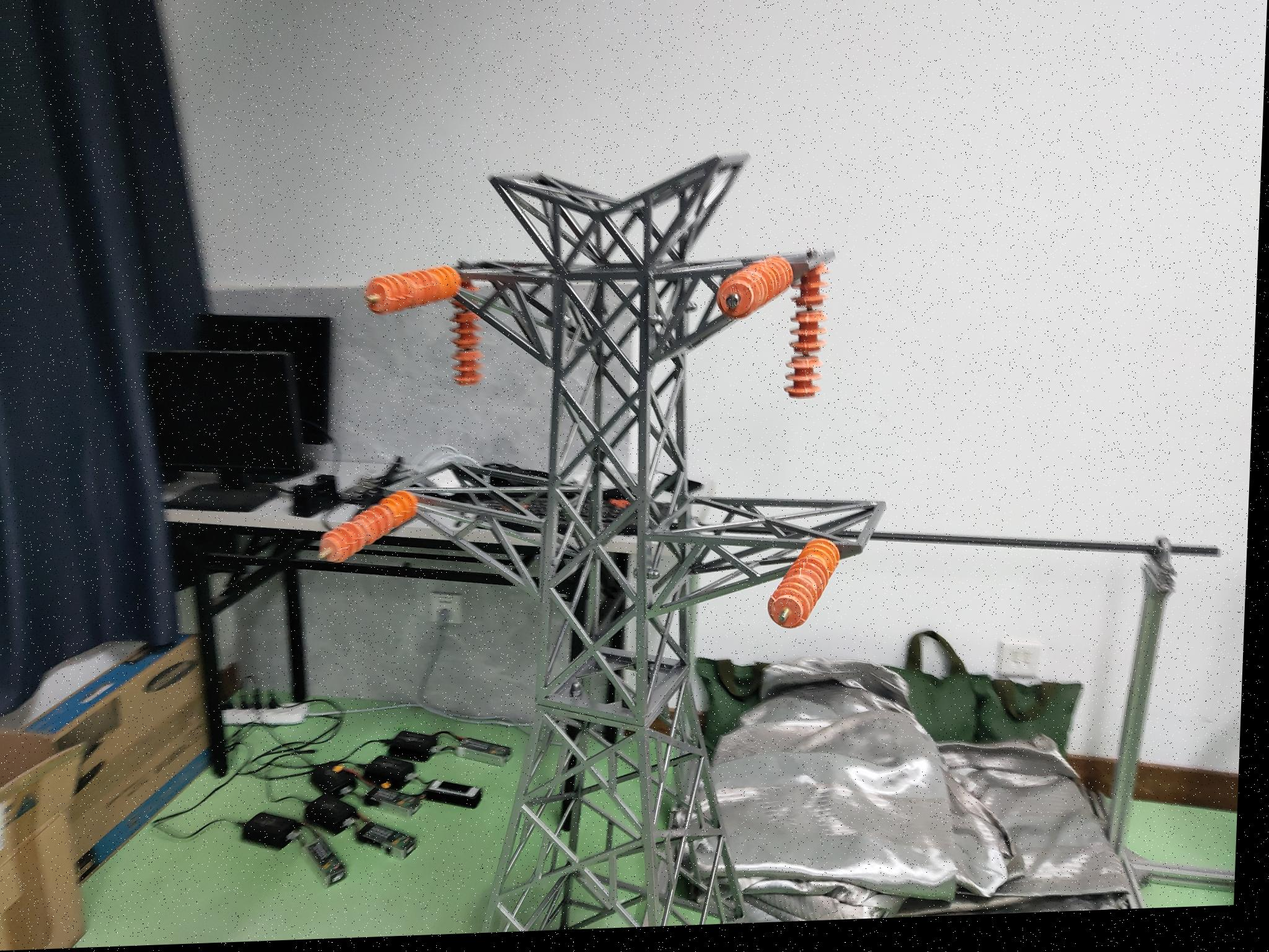tower: (363, 145, 901, 937)
